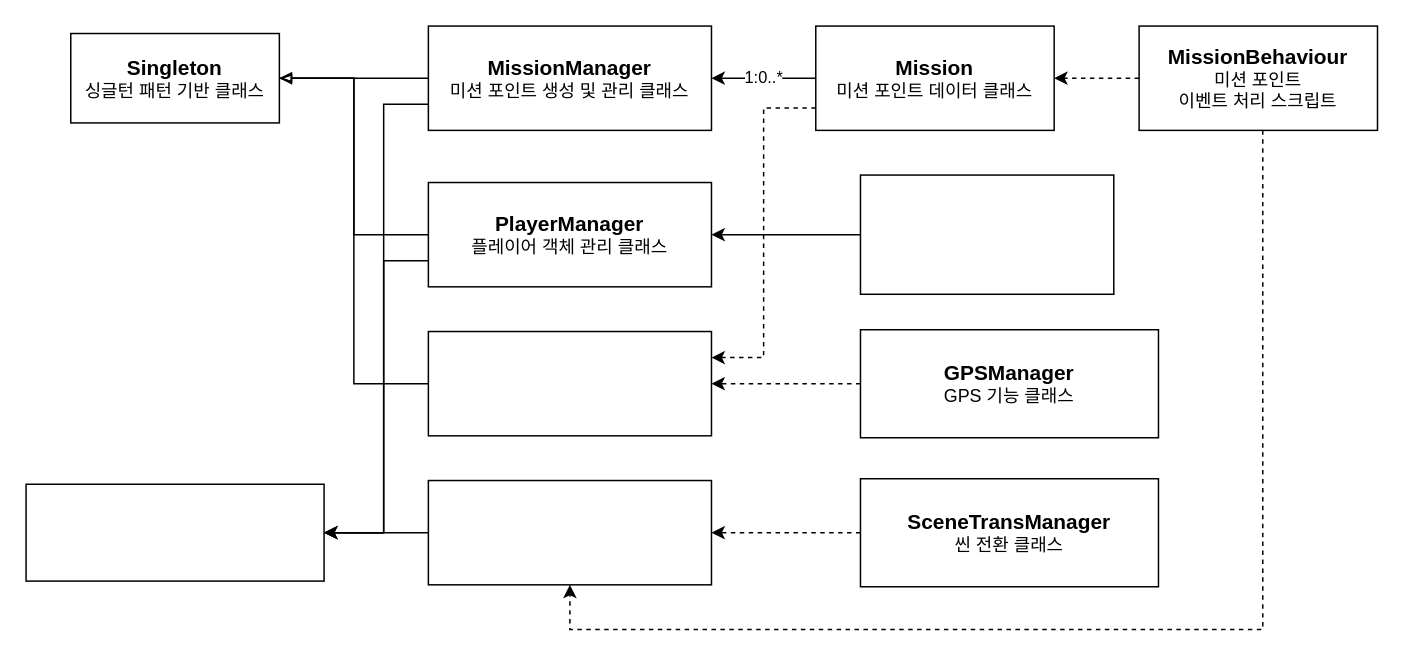
The diagram is 1404 pixels wide and 668 high, and some of its shapes have lost their labels. Each missing label, with the box of its shape:
GameManager 메인 화면 및 전체 게임 흐름 제어: (25, 483, 324, 581)
LoadingScreenManager 로딩 창 클래스: (427, 479, 711, 585)
Player 플레이어 객체 데이터 클래스: (859, 174, 1114, 294)
PositionManager 위치 정보 관리 클래스: (427, 330, 711, 436)
